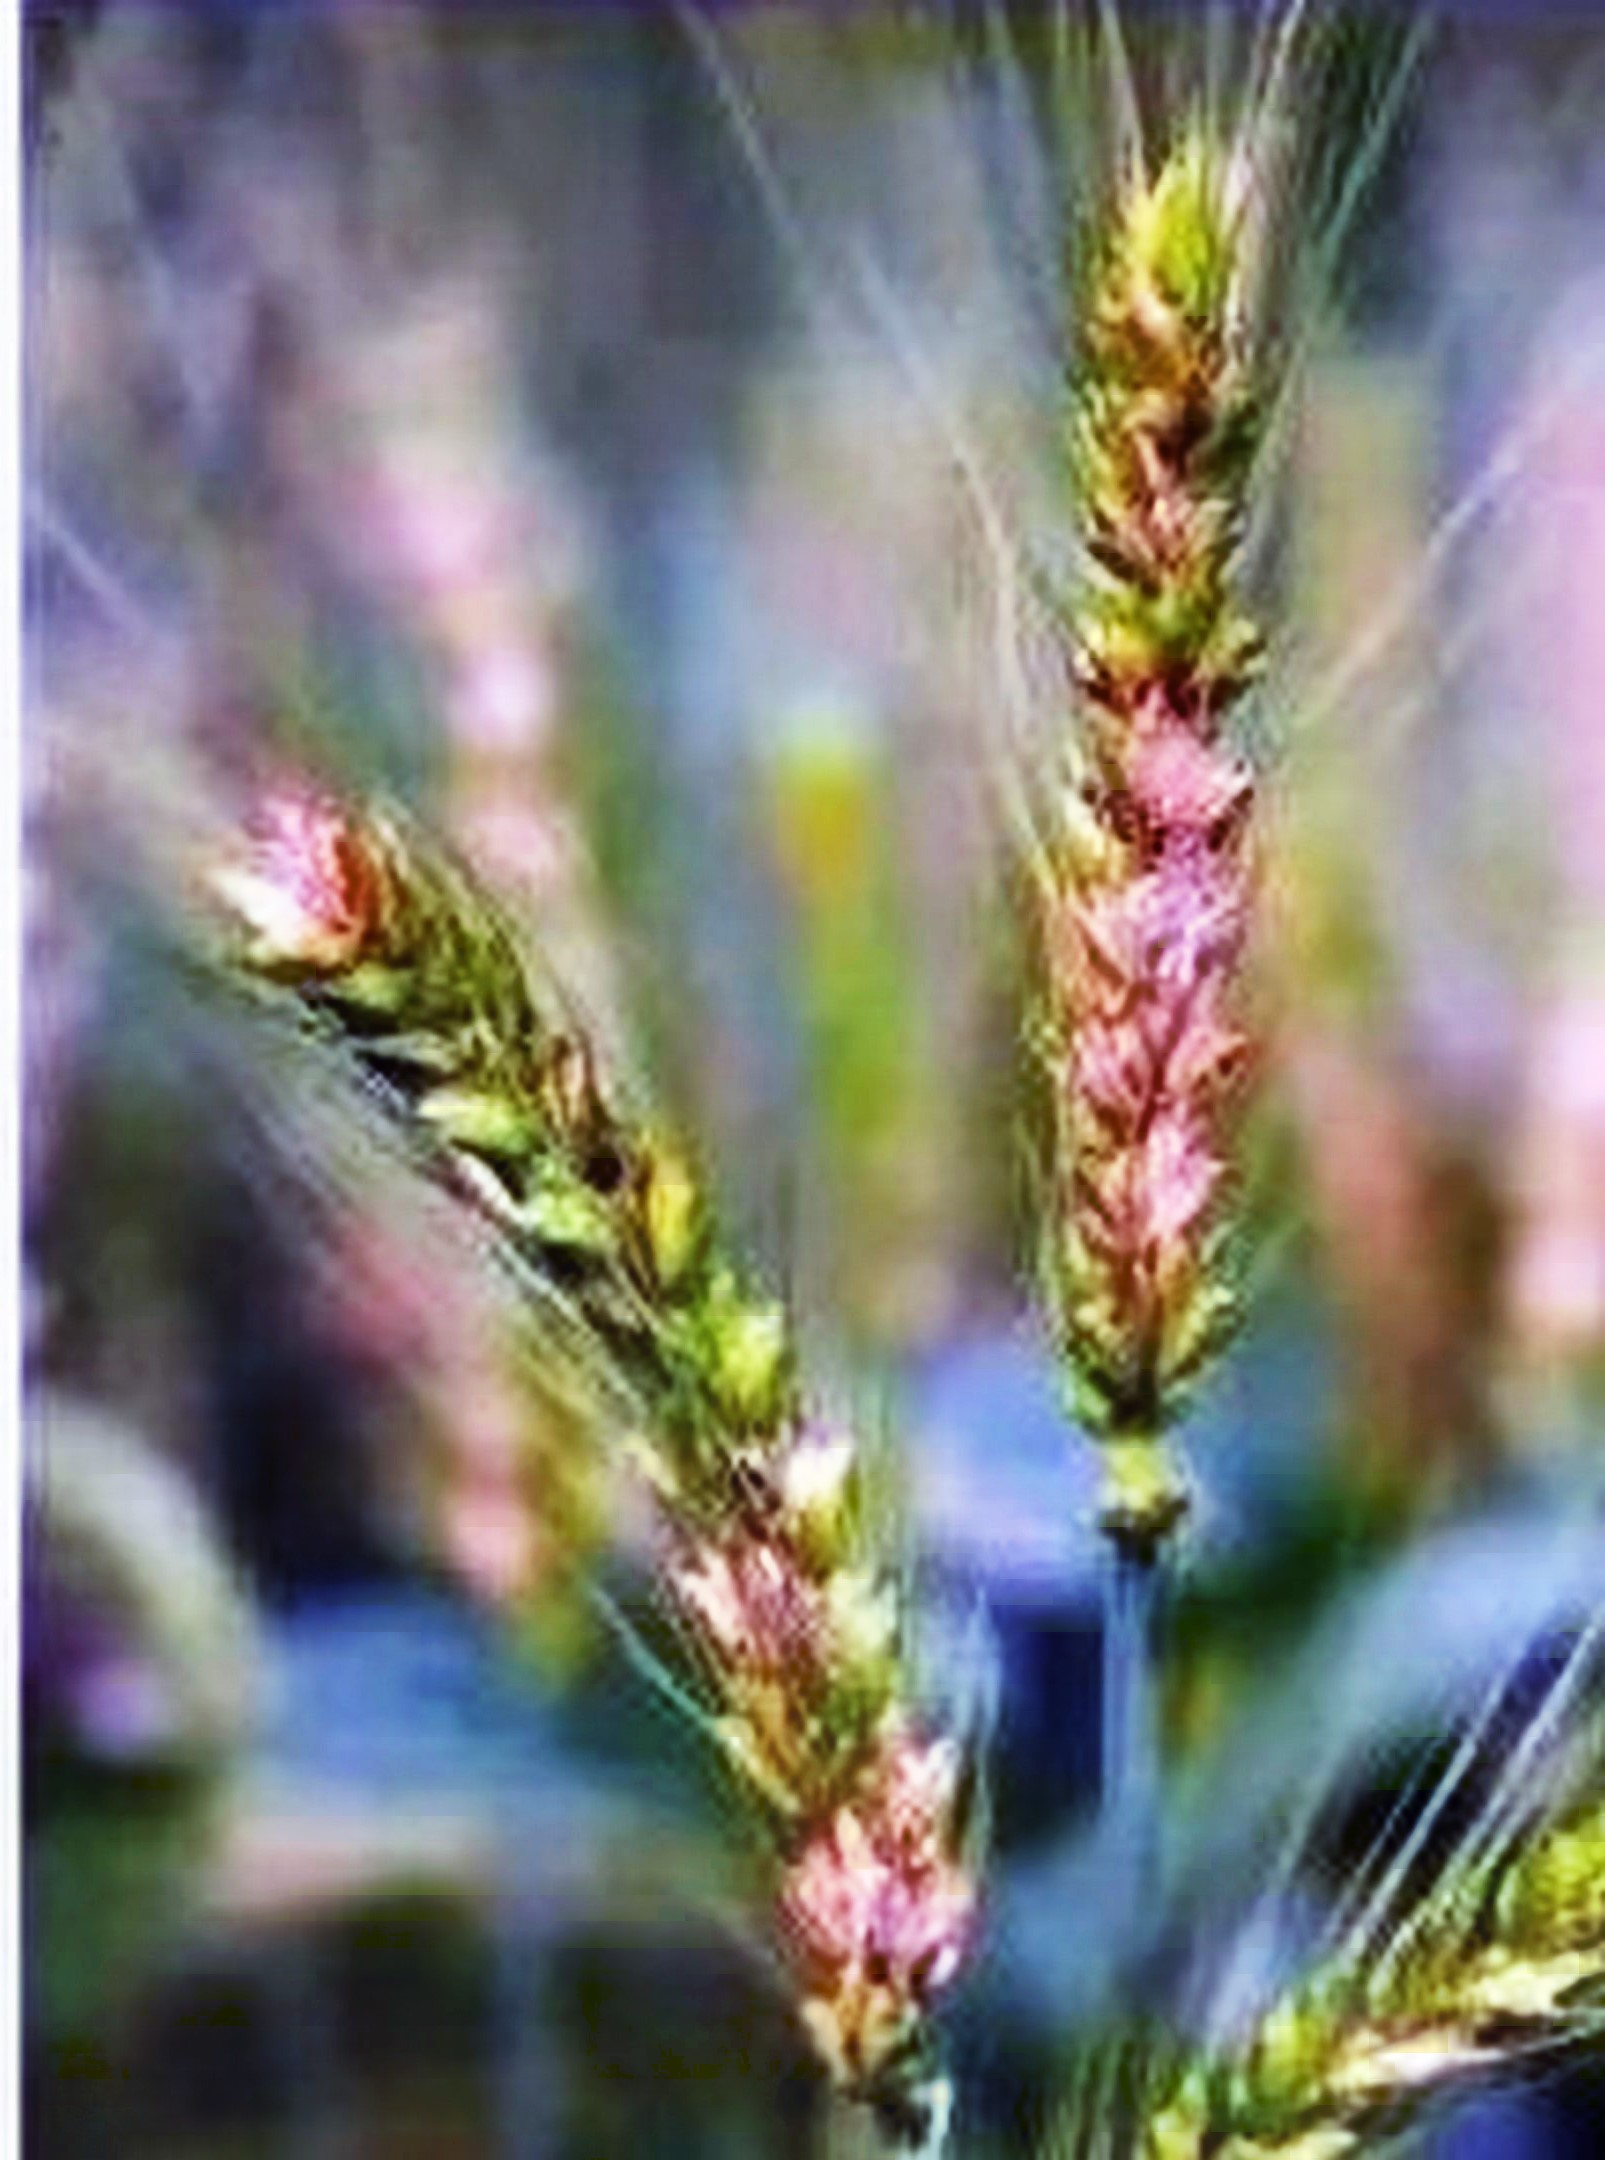Wheat scab: (954, 88, 1396, 1438)
